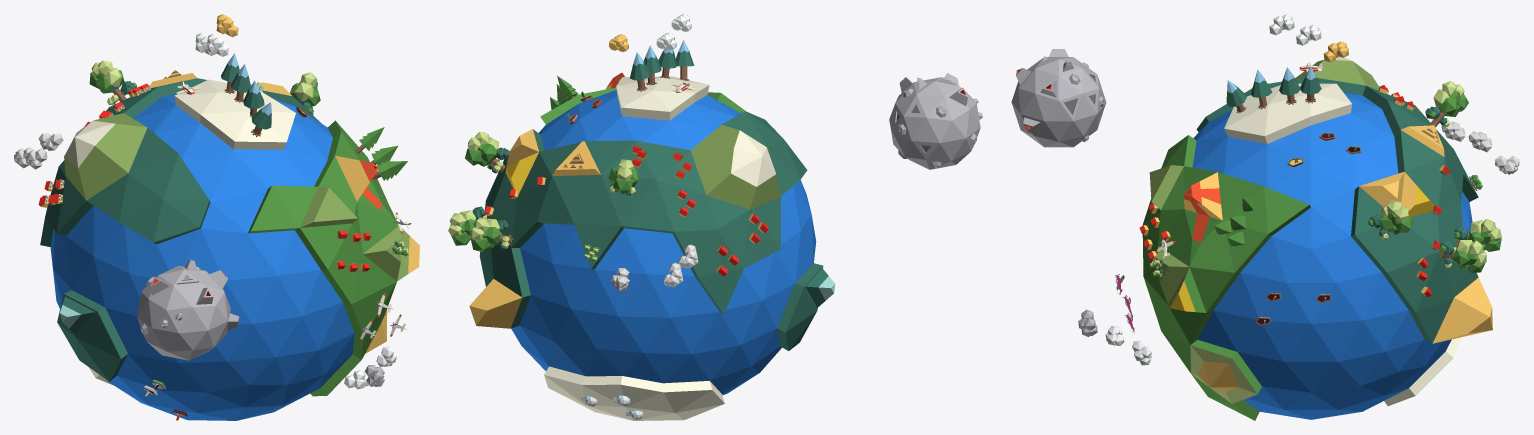
Rendered from earth.glb.
3 renders of one model, left to right at view 1: azimuth 30°, elevation 25°; view 2: azimuth 150°, elevation 25°; view 3: azimuth 270°, elevation 25°, orthographic. The views are drawn at different scales.
Visible parts, largest first — view 1: Icosphere.001, Cube.003, Cube.014, Cube.013, Cube.015, Cube.010, Cube.016, Cube.009; view 2: Icosphere.001, Cube.003, Cube.013, Cube.011, Cube.012, Cube.014; view 3: Icosphere.001, Cube.003, Cube.014, Cube.012, Cube.013, Cube.011.
Part boxes in pixels (<box>): Icosphere.001: <box>40,70,419,420</box>; Cube.003: <box>137,127,384,360</box>; Cube.014: <box>89,60,136,105</box>; Cube.013: <box>290,72,320,114</box>; Cube.015: <box>251,102,271,136</box>; Cube.010: <box>231,64,250,102</box>; Cube.016: <box>243,81,264,116</box>; Cube.009: <box>221,53,239,93</box>; Icosphere.001: <box>469,72,835,420</box>; Cube.003: <box>557,73,982,169</box>; Cube.013: <box>465,131,509,173</box>; Cube.011: <box>469,217,513,252</box>; Cube.012: <box>448,206,485,245</box>; Cube.014: <box>608,159,638,195</box>; Icosphere.001: <box>1142,57,1492,420</box>; Cube.003: <box>1011,49,1253,211</box>; Cube.014: <box>1425,81,1468,129</box>; Cube.012: <box>1438,240,1486,272</box>; Cube.013: <box>1368,200,1413,239</box>; Cube.011: <box>1453,219,1501,251</box>.
Bounding box in the file's own units: 16.9 × 17.64 × 21.24.
1 material, 1 textured.
